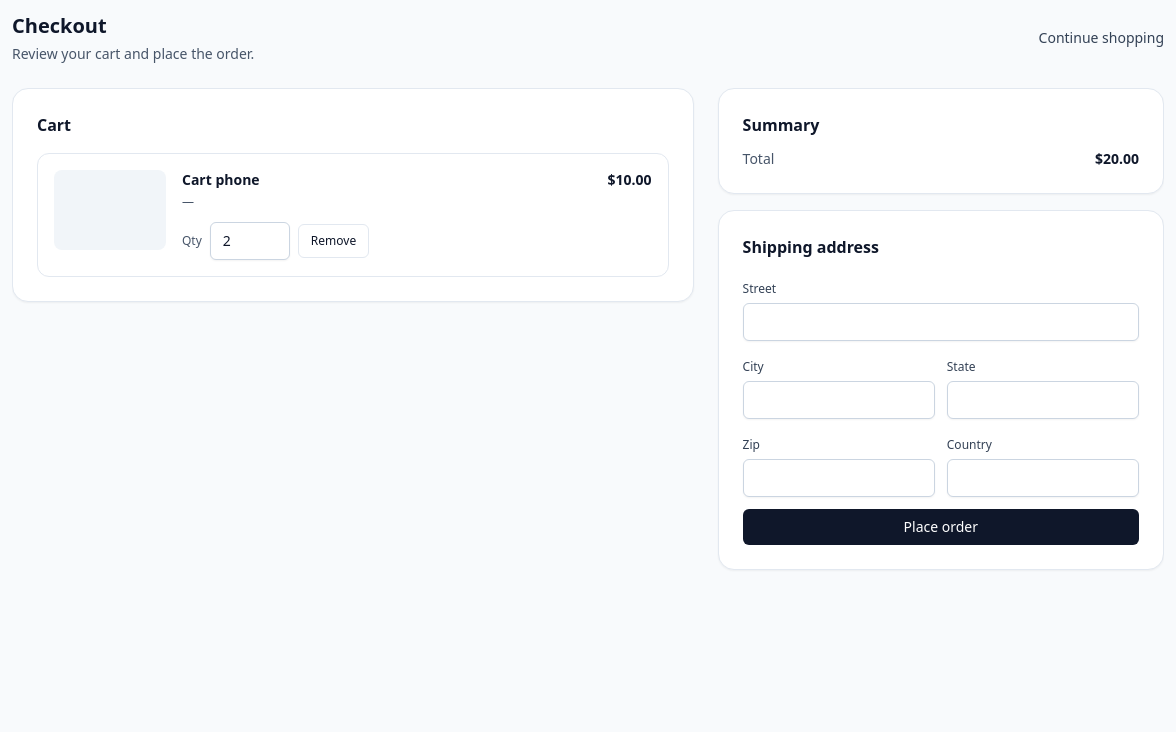
Test: CheckoutPage › submits checkout with address and shows a success toast
The image size is (1176, 732).
Expected: the text "Cart phone" is shown, left=182, top=170, right=260, bottom=190
Type " 1 Main St " into the field labelled "Street" at (941, 322), box left=743, top=303, right=1139, bottom=341
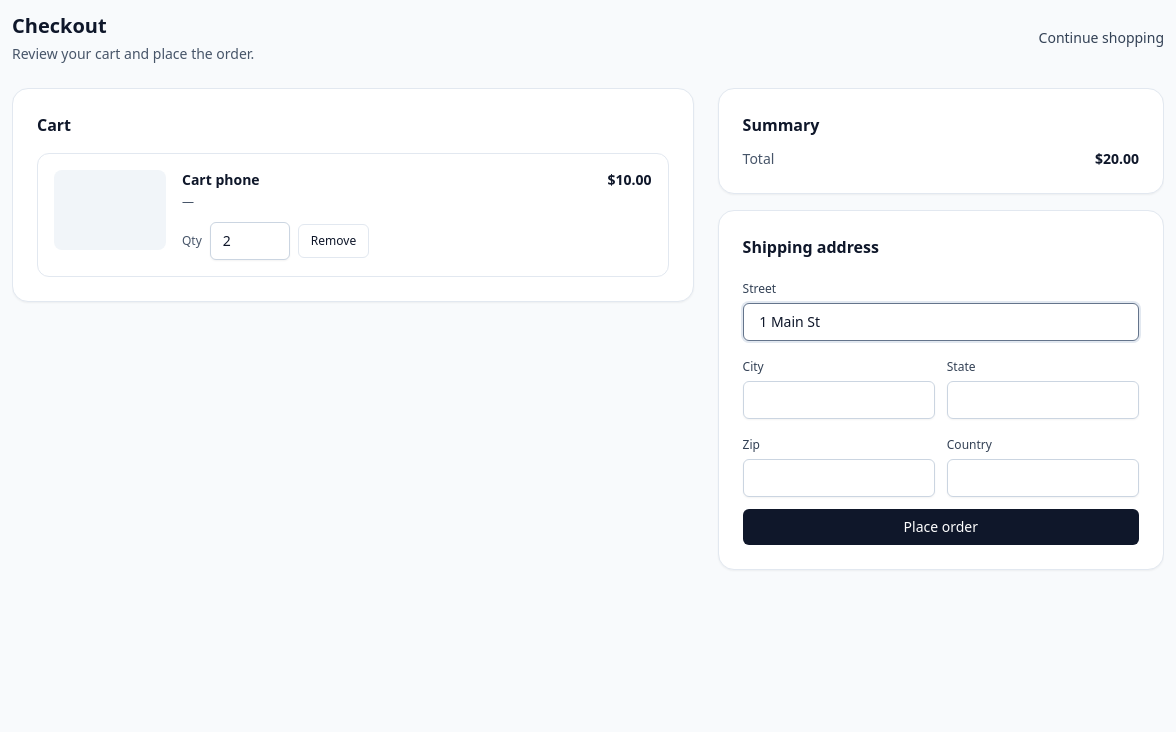
Type " Sydney " into the field labelled "City" at (839, 400), box left=743, top=381, right=935, bottom=419
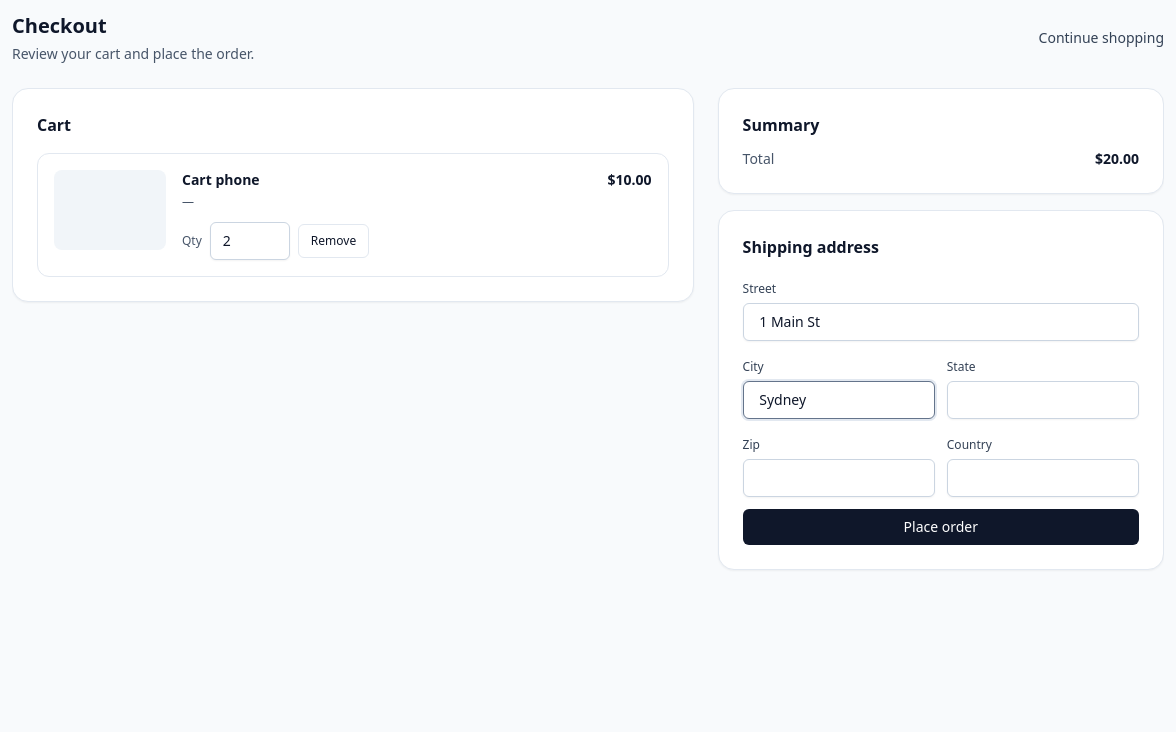
Type " NSW " into the field labelled "State" at (1043, 400), box left=947, top=381, right=1139, bottom=419
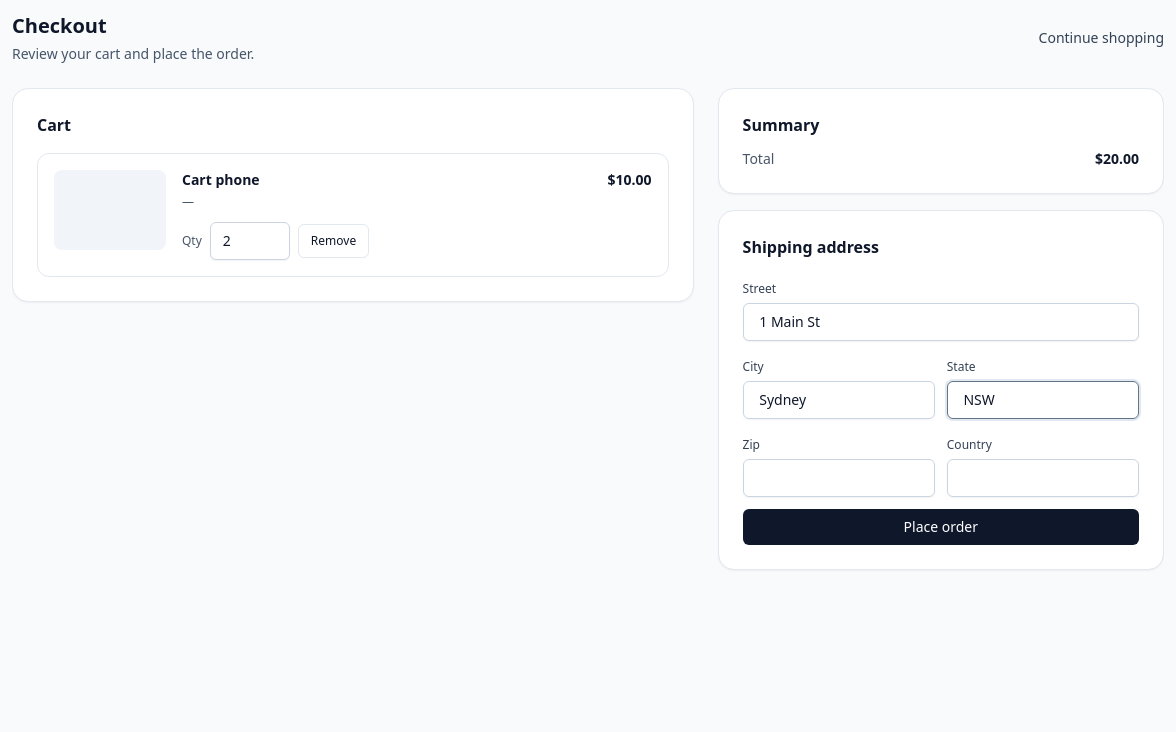
Type " 2000 " into the field labelled "Zip" at (839, 478), box left=743, top=459, right=935, bottom=497
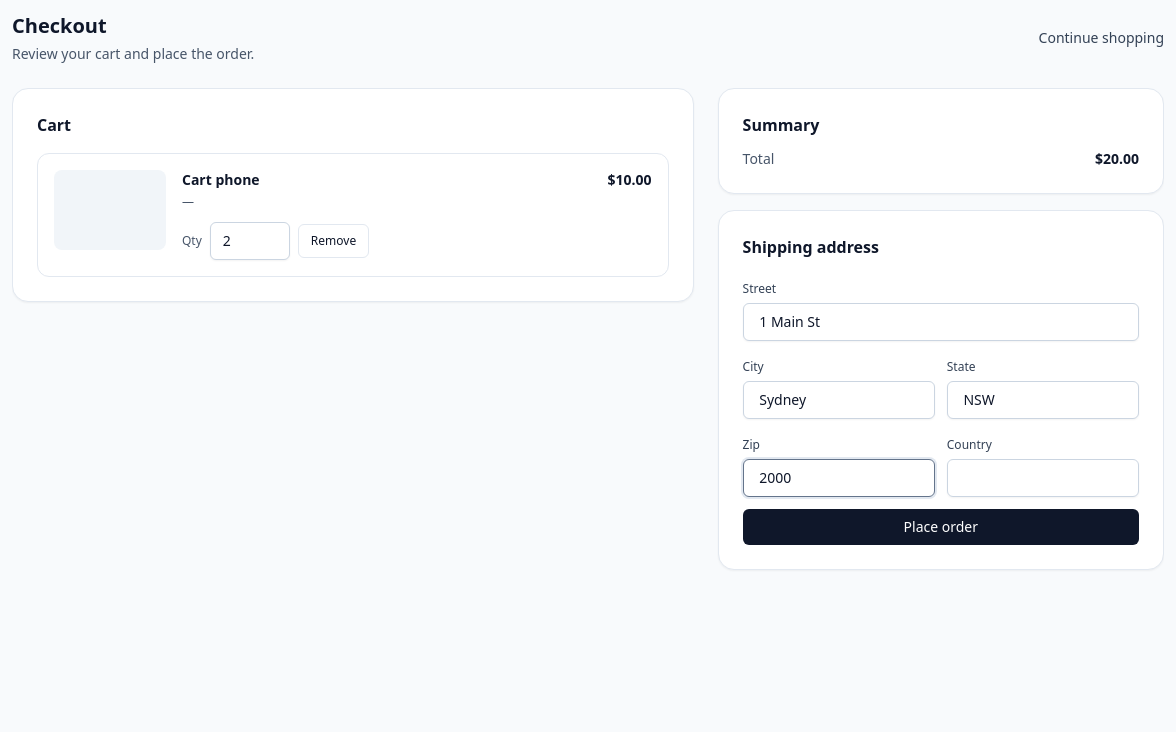
Type " AU " into the field labelled "Country" at (1043, 478), box left=947, top=459, right=1139, bottom=497
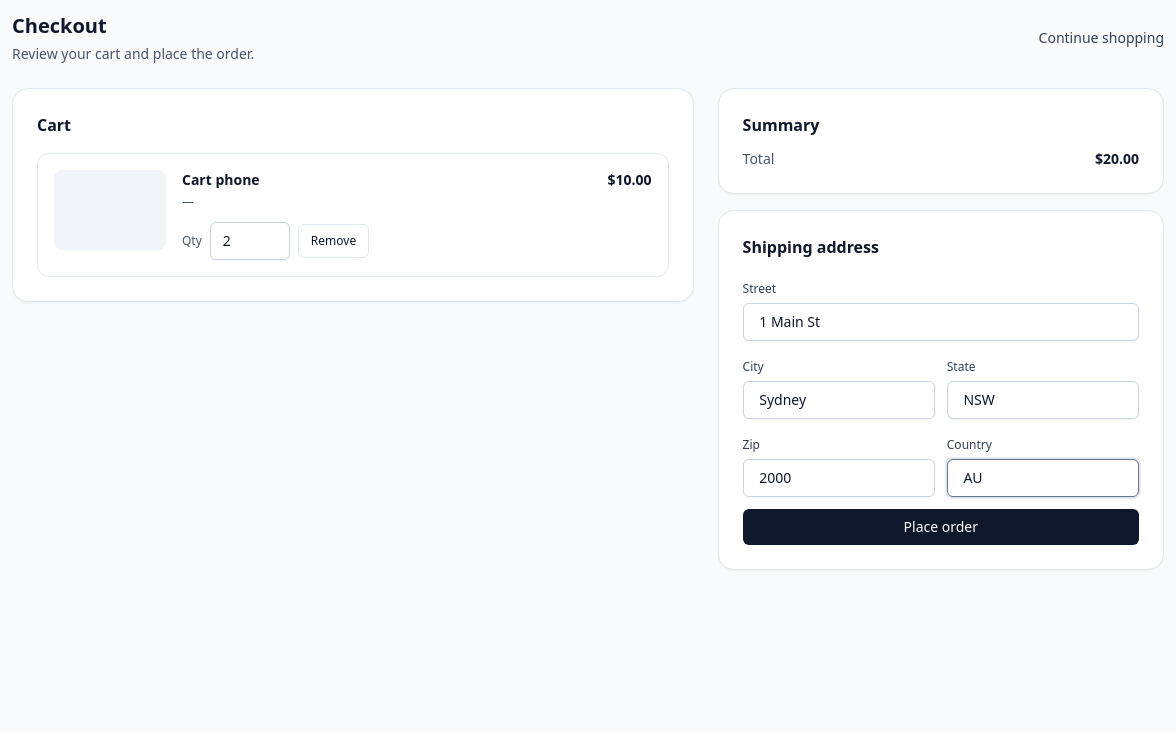
Click the button "Place order" at (941, 527), box left=743, top=509, right=1139, bottom=545
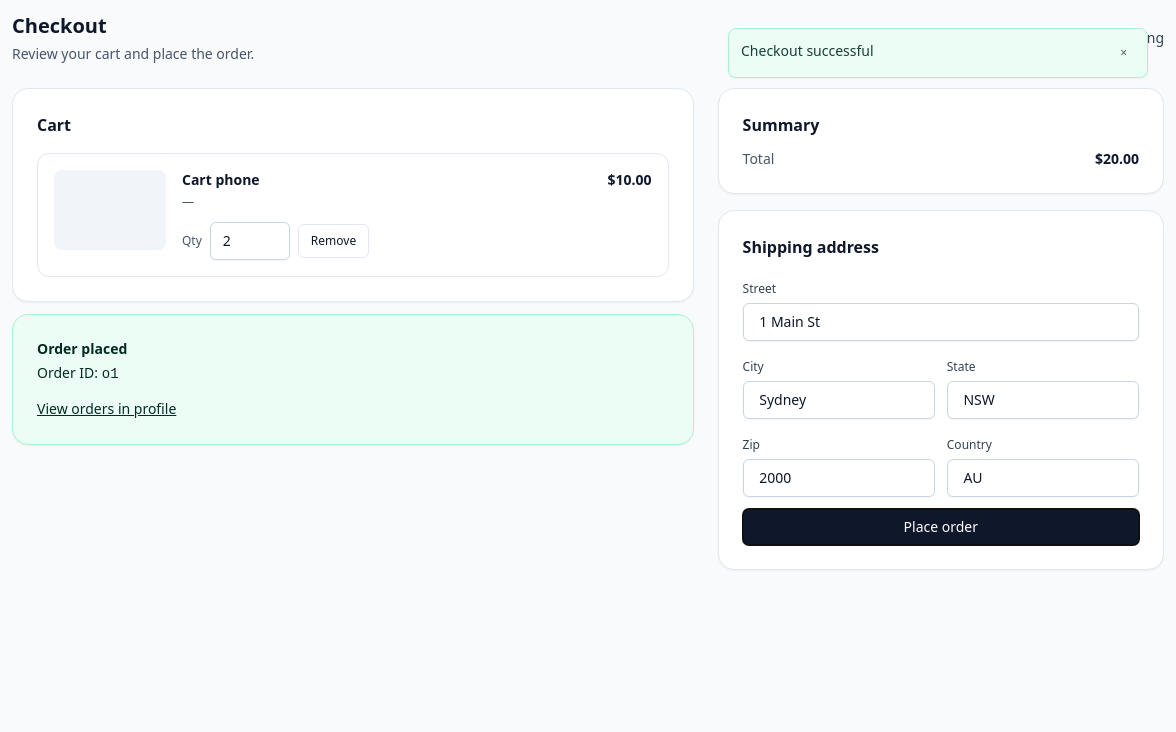
Result: the text "Checkout successful" is shown at left=741, top=41, right=874, bottom=60
